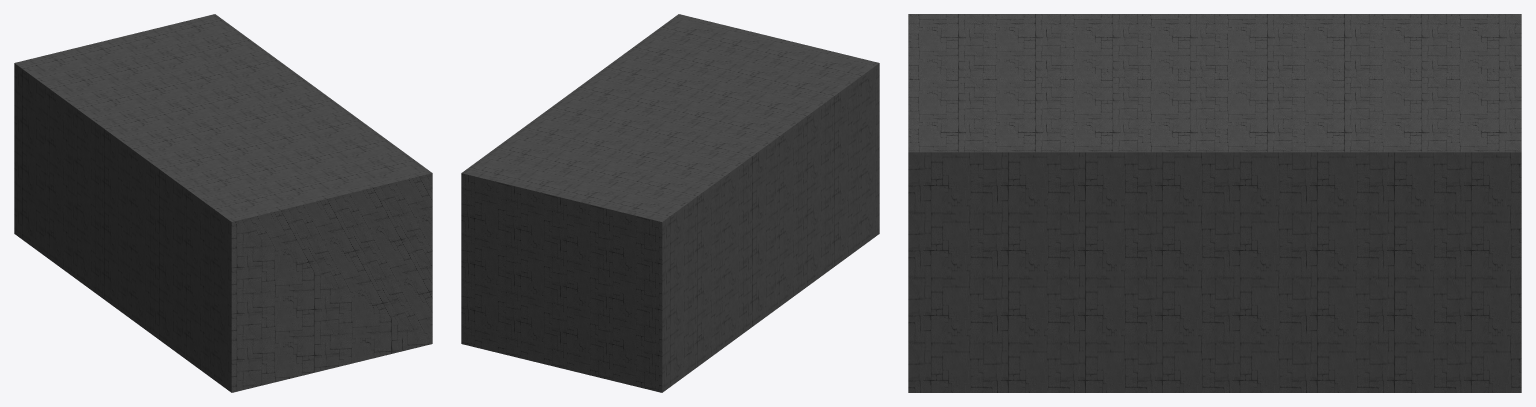
Rendered from Temple.fbx.
The picture shows the model from 3 angles, left to right: view 1: azimuth 30°, elevation 25°; view 2: azimuth 150°, elevation 25°; view 3: azimuth 270°, elevation 25°; orthographic projection. The views are drawn at different scales.
Visible parts, largest first — view 1: Shape 1; view 2: Shape 1; view 3: Shape 1.
Boxes of the visible parts, left/top/right/bottom form: Shape 1: left=14, top=14, right=432, bottom=392; Shape 1: left=461, top=14, right=879, bottom=392; Shape 1: left=908, top=14, right=1521, bottom=392.
Bounding box in the file's own units: 320000 × 260000 × 599988.
20 materials, 19 textured.
